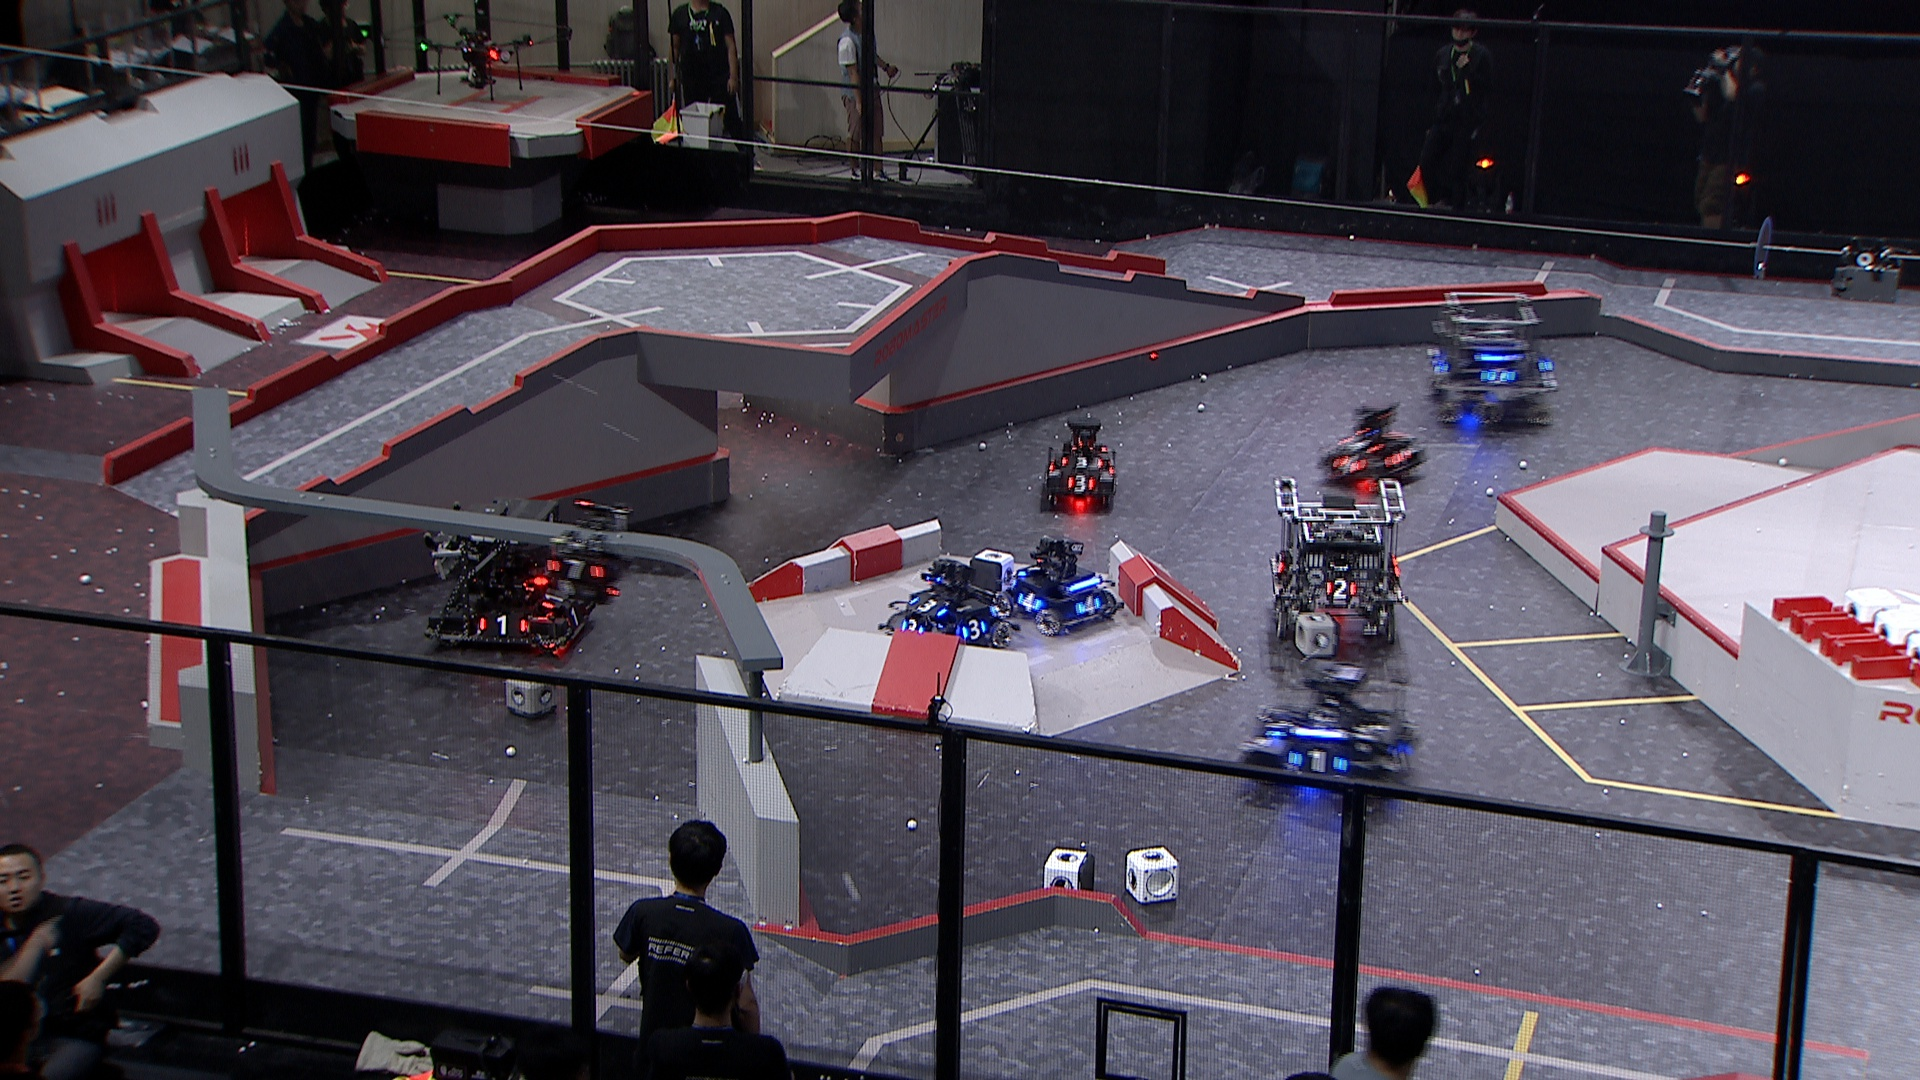armor: (1287, 749, 1353, 779), (547, 556, 607, 582), (475, 615, 531, 638), (1338, 434, 1385, 454), (1262, 716, 1295, 740), (907, 597, 948, 616), (1332, 455, 1365, 477), (1060, 456, 1106, 472), (1480, 367, 1515, 386), (1324, 579, 1357, 600), (959, 617, 988, 640), (1390, 745, 1414, 771), (1065, 475, 1096, 495), (1019, 591, 1044, 615), (898, 617, 927, 637), (1076, 593, 1100, 616), (1386, 448, 1414, 465), (541, 591, 564, 609), (1017, 564, 1044, 579), (564, 607, 583, 628)
car: (1237, 655, 1425, 815), (419, 495, 599, 655), (1266, 472, 1408, 646), (1425, 286, 1564, 425), (874, 555, 1019, 655), (1001, 533, 1124, 637), (1315, 400, 1429, 491), (1035, 411, 1122, 513)
watcher: (539, 498, 636, 603)
